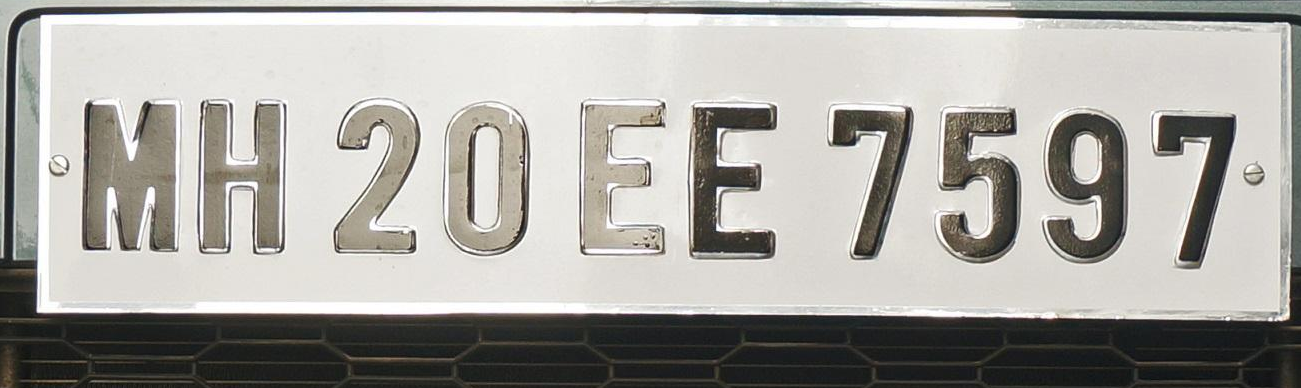0: (440, 100, 535, 259)
2: (329, 97, 425, 256)
5: (934, 102, 1028, 266)
7: (1147, 108, 1240, 275), (827, 102, 916, 263)
9: (1045, 107, 1132, 266)
E: (578, 94, 672, 260), (687, 101, 782, 261)
H: (197, 99, 287, 255)
M: (80, 99, 184, 255)
